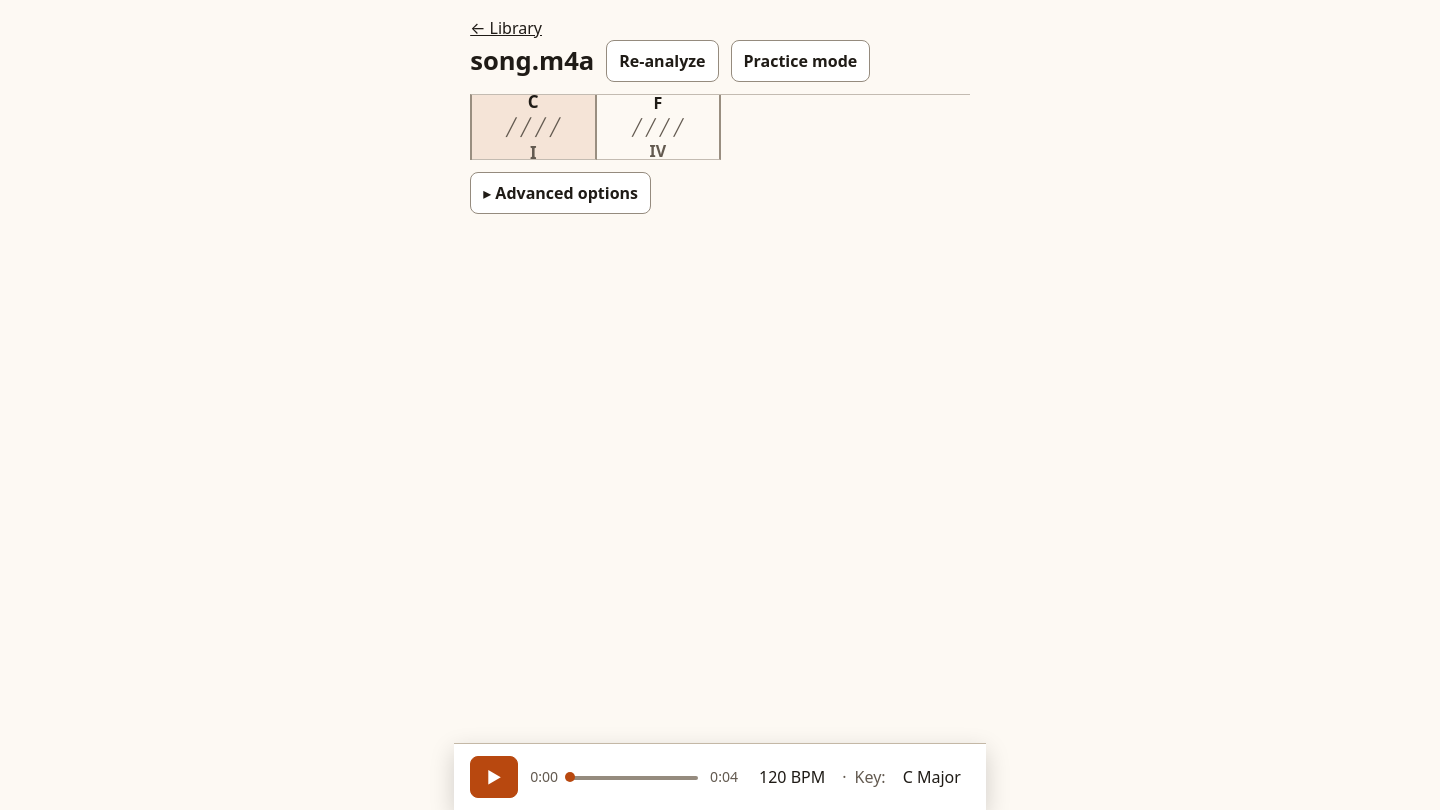
clicking off the selected chord closes the editor, clicking another keeps it
The image size is (1440, 810).
Click the text "I": (533, 152) [530,140,537,165]
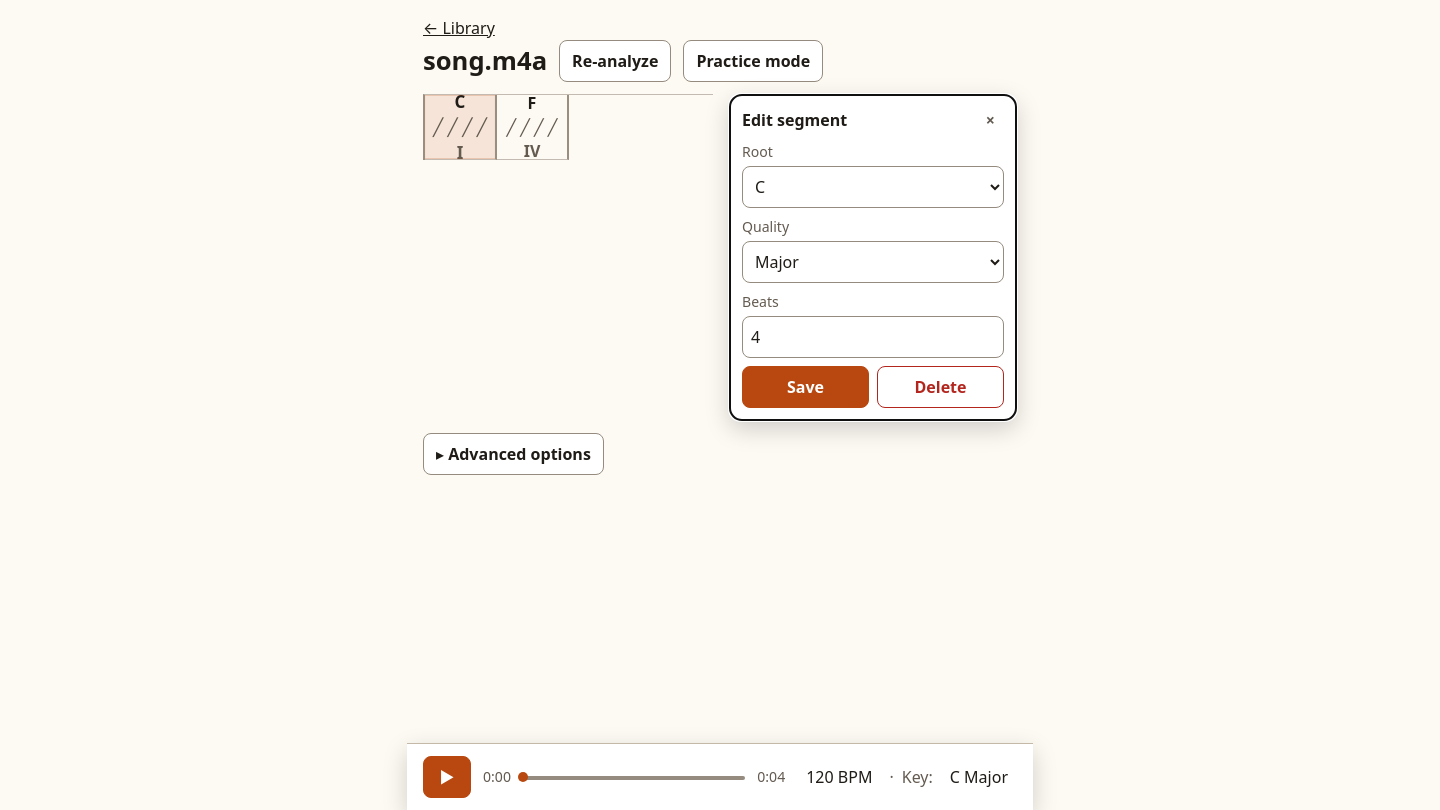
Expected: the text "Edit segment" is shown, [742,108,847,132]
Note: Another chord: the editor stays, now editing that chord.
Click the text "IV": (532, 151) [524,139,540,163]
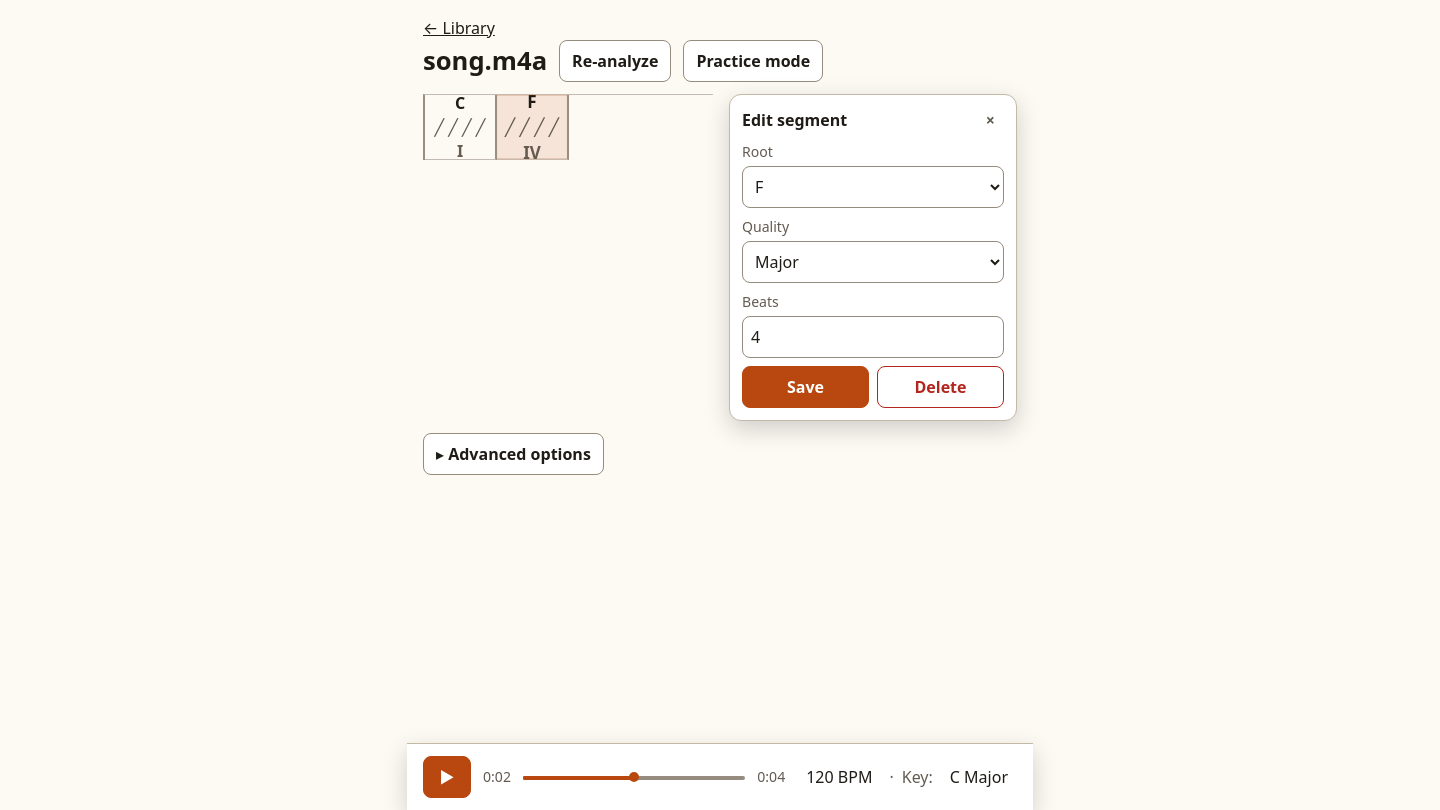
Expected: the text "Edit segment" is shown, [742,108,847,132]
Expected: the dropdown labelled "Root" shows "F", [742,166,1004,208]
Note: Off the chart entirely: the editor goes away.
Click the element that starts with "← Library": (720, 405) [0,0,1439,809]
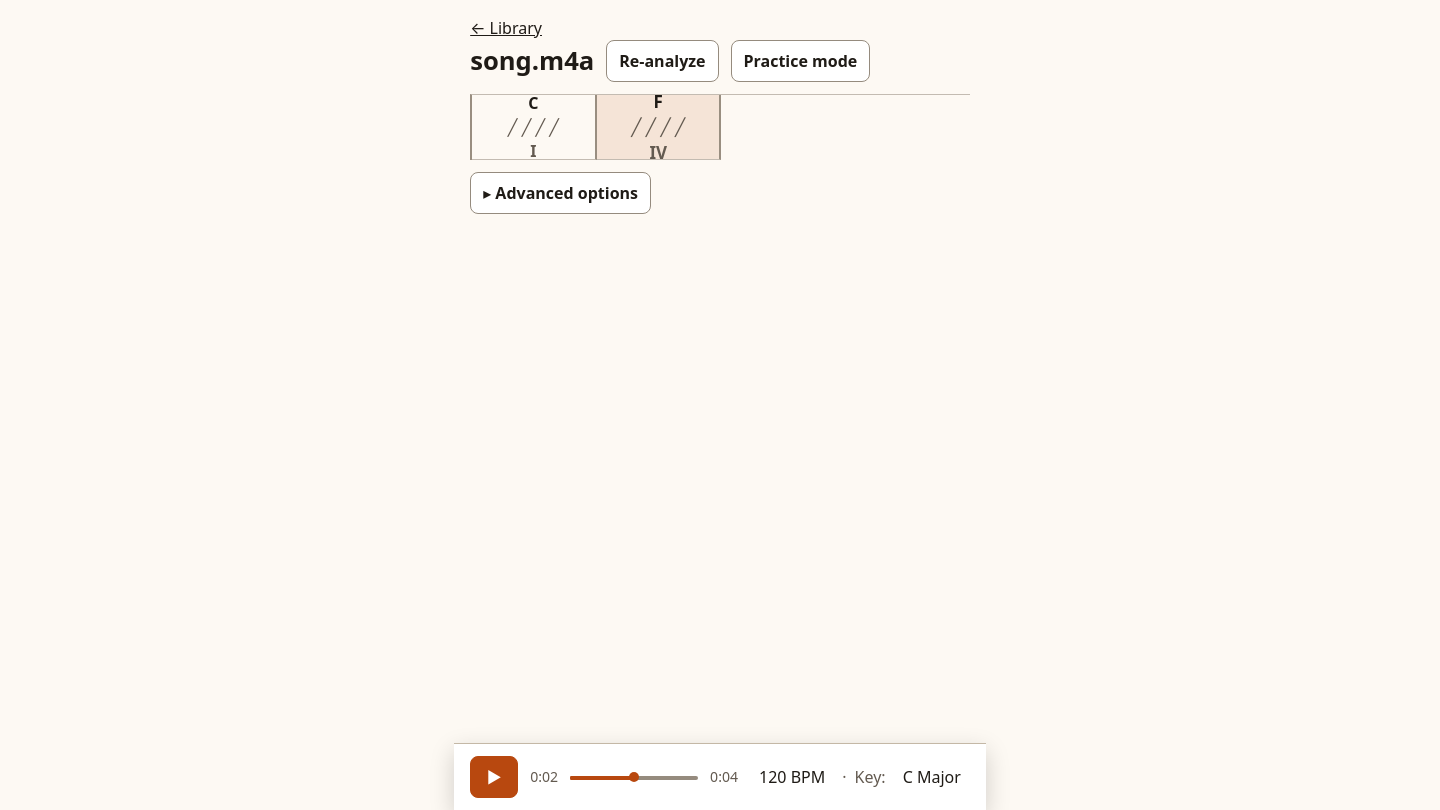
Expected: the text "Edit segment" is gone
